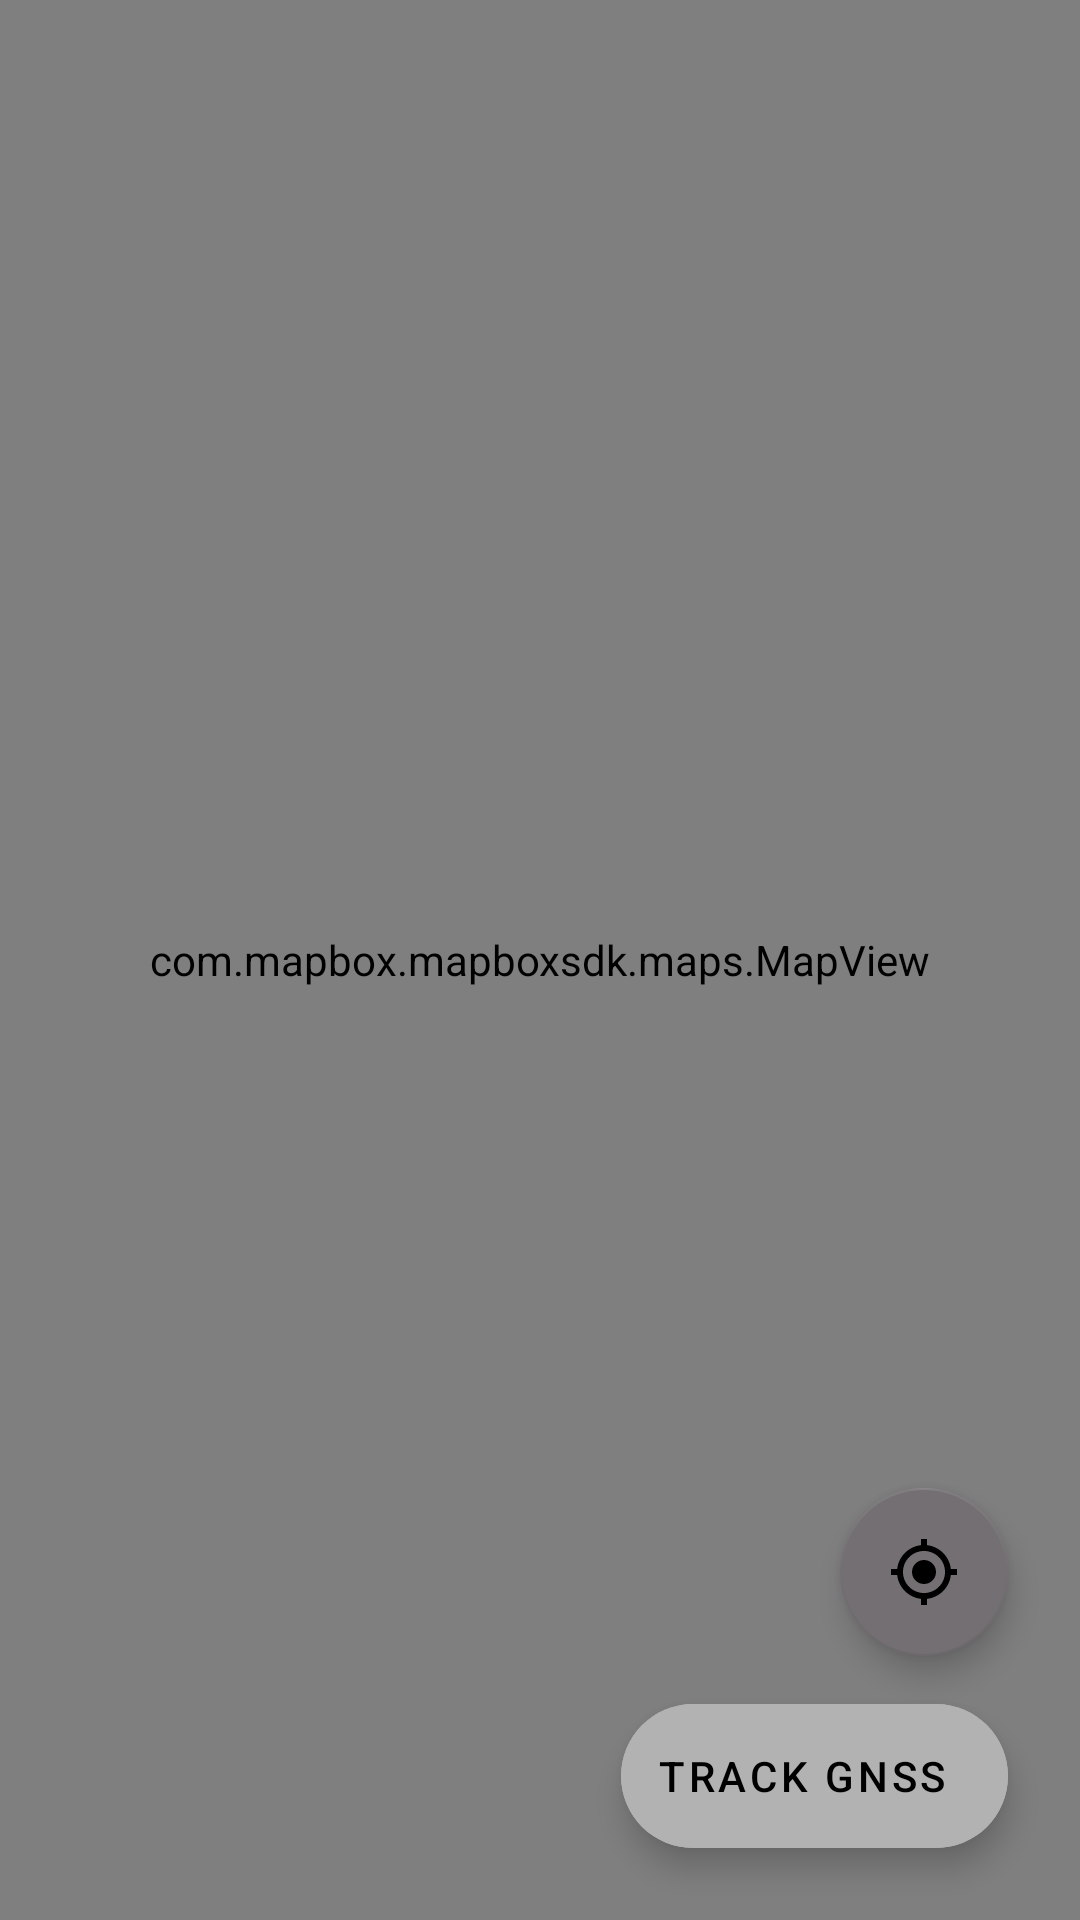

Where to tap for icons on this 1080*1920 app screen, as [x,y]:
current location: [924,1572]
